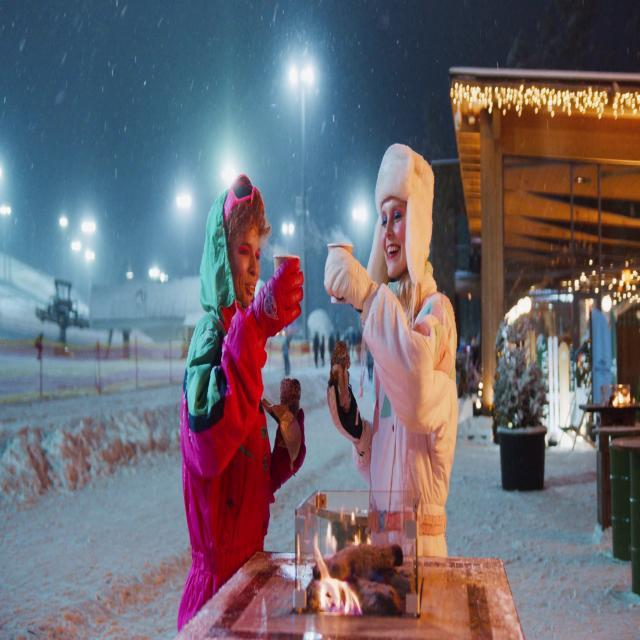Fire: (314, 528, 366, 624)
